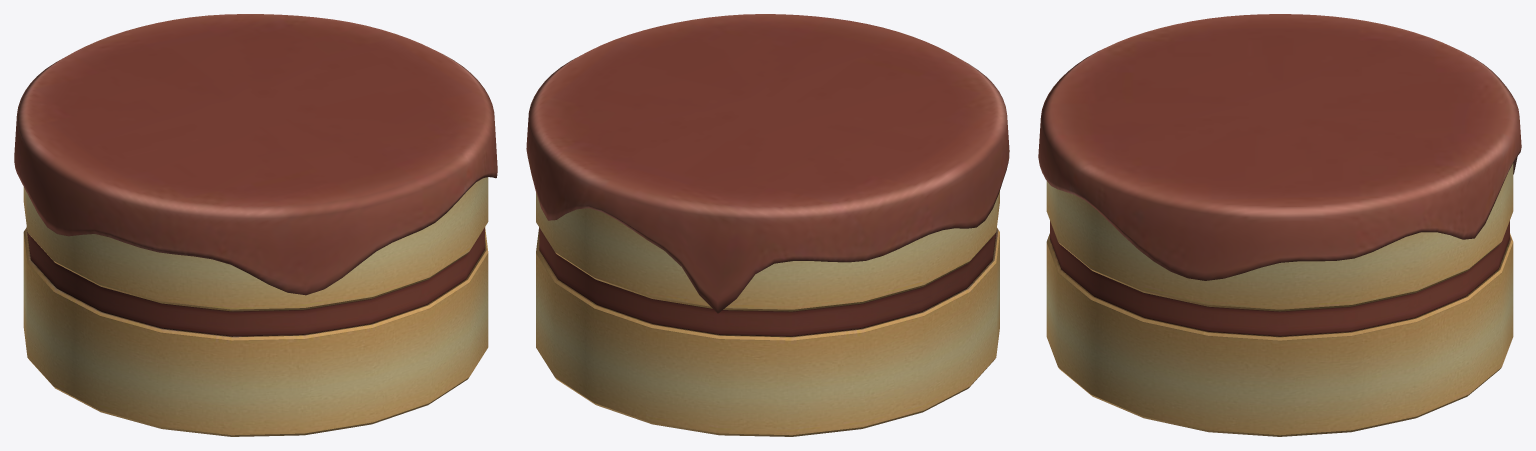
The model's file is chocolateCake.glb.
The picture shows the model from 3 angles, left to right: view 1: azimuth 30°, elevation 25°; view 2: azimuth 150°, elevation 25°; view 3: azimuth 270°, elevation 25°; orthographic projection.
Visible parts, largest first — view 1: ChocolateCakeCreamLayer, JamCakeBottomLayer, JamCakeLayer, ChocolateCakeFilling; view 2: ChocolateCakeCreamLayer, JamCakeBottomLayer, JamCakeLayer, ChocolateCakeFilling; view 3: ChocolateCakeCreamLayer, JamCakeBottomLayer, JamCakeLayer, ChocolateCakeFilling.
Boxes of the visible parts, x1=… form: ChocolateCakeCreamLayer: x1=14, y1=14, x2=497, y2=295; JamCakeBottomLayer: x1=23, y1=227, x2=488, y2=436; JamCakeLayer: x1=23, y1=177, x2=488, y2=311; ChocolateCakeFilling: x1=27, y1=227, x2=484, y2=336; ChocolateCakeCreamLayer: x1=526, y1=14, x2=1009, y2=313; JamCakeBottomLayer: x1=536, y1=227, x2=999, y2=436; JamCakeLayer: x1=536, y1=191, x2=999, y2=311; ChocolateCakeFilling: x1=539, y1=228, x2=996, y2=336; ChocolateCakeCreamLayer: x1=1038, y1=14, x2=1521, y2=280; JamCakeBottomLayer: x1=1046, y1=233, x2=1513, y2=436; JamCakeLayer: x1=1046, y1=163, x2=1513, y2=311; ChocolateCakeFilling: x1=1050, y1=221, x2=1509, y2=336.
Bounding box in the file's own units: 0.2749 × 0.1435 × 0.2749.
Materials: 1 (1 with a texture image).
